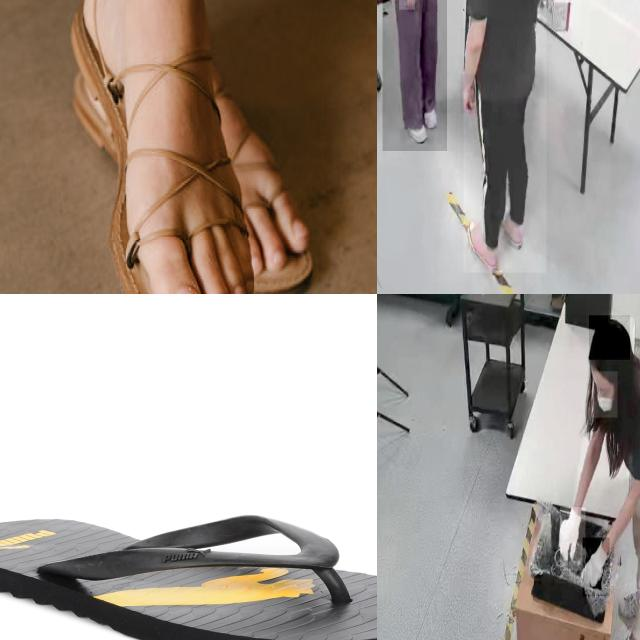Sandals: (68, 0, 256, 294), (0, 513, 377, 640)
face_mask: (592, 372, 618, 418)
hand_glove: (560, 508, 586, 572), (582, 538, 610, 597)
hand_noglove: (460, 74, 478, 114), (398, 0, 415, 10)
head_nohelmet: (589, 315, 631, 361)
person: (563, 321, 640, 640), (463, 0, 546, 273), (382, 0, 447, 151)
shoes: (464, 211, 502, 270), (490, 199, 526, 251), (401, 108, 429, 146), (617, 580, 640, 621), (420, 90, 440, 129)
